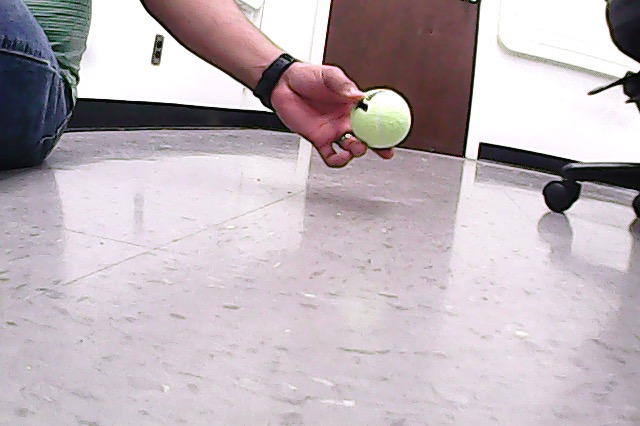ball: (352, 88, 412, 149)
